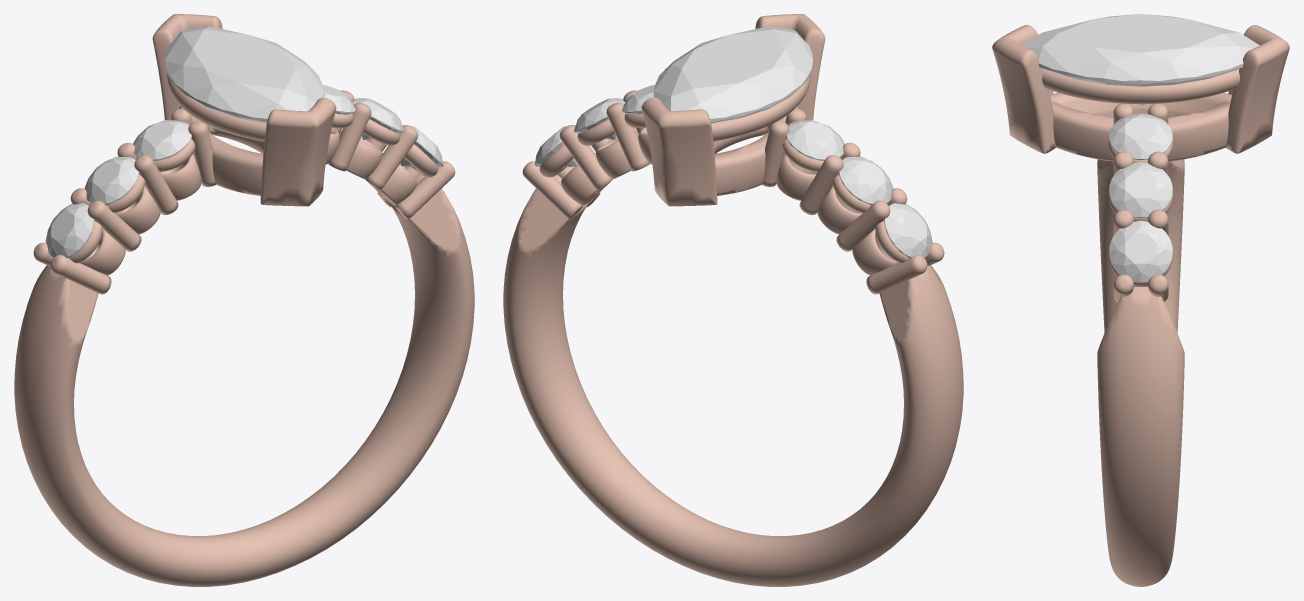
The model's file is diamond-marquise-rosegold-protectededges2prongs-taperedband-7stone.glb.
3 views of the same model, side by side, from view 1: azimuth 30°, elevation 25°; view 2: azimuth 150°, elevation 25°; view 3: azimuth 270°, elevation 25° (orthographic).
Parts seen in each view (by area): view 1: metal, stone.002, dia.001, dia.009, dia.010, dia.012, dia.011; view 2: metal, stone.002, dia.001, dia.009, dia.010, dia.012, dia.011; view 3: metal, stone.002, dia.011, dia.012, dia.013.
Part boxes in pixels (x1,y1,x2,y2): metal: (14, 14, 474, 586); stone.002: (164, 26, 324, 123); dia.001: (45, 203, 93, 257); dia.009: (84, 156, 139, 204); dia.010: (133, 120, 191, 160); dia.012: (352, 98, 403, 139); dia.011: (400, 125, 443, 166); metal: (503, 14, 963, 586); stone.002: (653, 26, 813, 123); dia.001: (884, 203, 932, 257); dia.009: (838, 156, 893, 204); dia.010: (786, 120, 844, 160); dia.012: (574, 98, 625, 139); dia.011: (534, 125, 577, 166); metal: (992, 25, 1289, 586); stone.002: (1022, 14, 1259, 105); dia.011: (1109, 221, 1172, 282); dia.012: (1109, 162, 1172, 218); dia.013: (1109, 113, 1172, 159).
Size of the model in its own units: 20.5 by 22.92 by 11.69.
